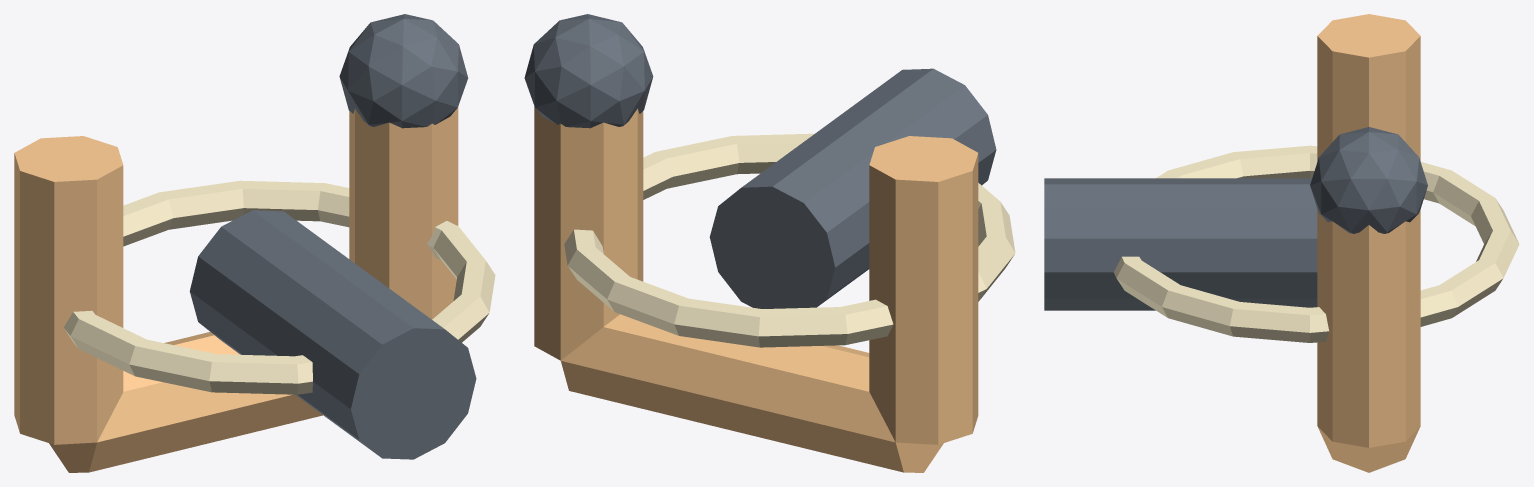
The model's file is iman_1.glb.
3 views of the same model, side by side, from view 1: azimuth 30°, elevation 25°; view 2: azimuth 150°, elevation 25°; view 3: azimuth 270°, elevation 25° (orthographic). The views are drawn at different scales.
Parts seen in each view (by area): view 1: mango, herradura_izq, bobina, herradura_der, herradura_base, polo; view 2: herradura_izq, mango, herradura_base, bobina, herradura_der, polo; view 3: mango, herradura_der, bobina, herradura_izq, polo, herradura_base.
Boxes of the visible parts, x1,y1,x2,y2 form: mango: [189, 210, 476, 459]; herradura_izq: [14, 136, 123, 444]; bobina: [63, 180, 495, 394]; herradura_der: [349, 107, 458, 319]; herradura_base: [49, 332, 322, 472]; polo: [339, 14, 468, 128]; herradura_izq: [869, 136, 978, 444]; mango: [709, 68, 996, 308]; herradura_base: [561, 314, 943, 472]; bobina: [564, 133, 1015, 347]; herradura_der: [534, 106, 643, 360]; polo: [524, 14, 653, 128]; mango: [1044, 178, 1317, 310]; herradura_der: [1317, 209, 1420, 447]; bobina: [1114, 145, 1519, 342]; herradura_izq: [1317, 14, 1420, 161]; polo: [1310, 127, 1427, 233]; herradura_base: [1318, 426, 1420, 472].
Bounding box in the file's own units: 0.8804 × 0.7127 × 0.9.
